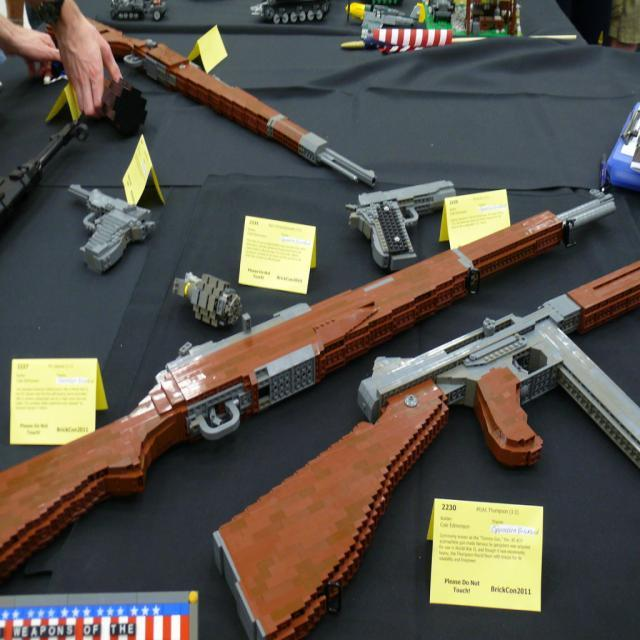weapon: (212, 256, 640, 640), (42, 16, 377, 188), (344, 178, 456, 272), (68, 182, 158, 274)
